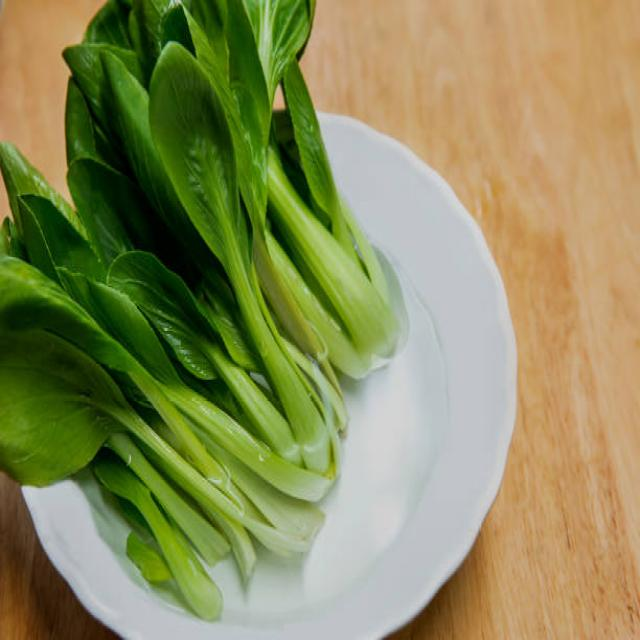Bok Choy: (148, 7, 368, 394), (11, 213, 140, 519)
